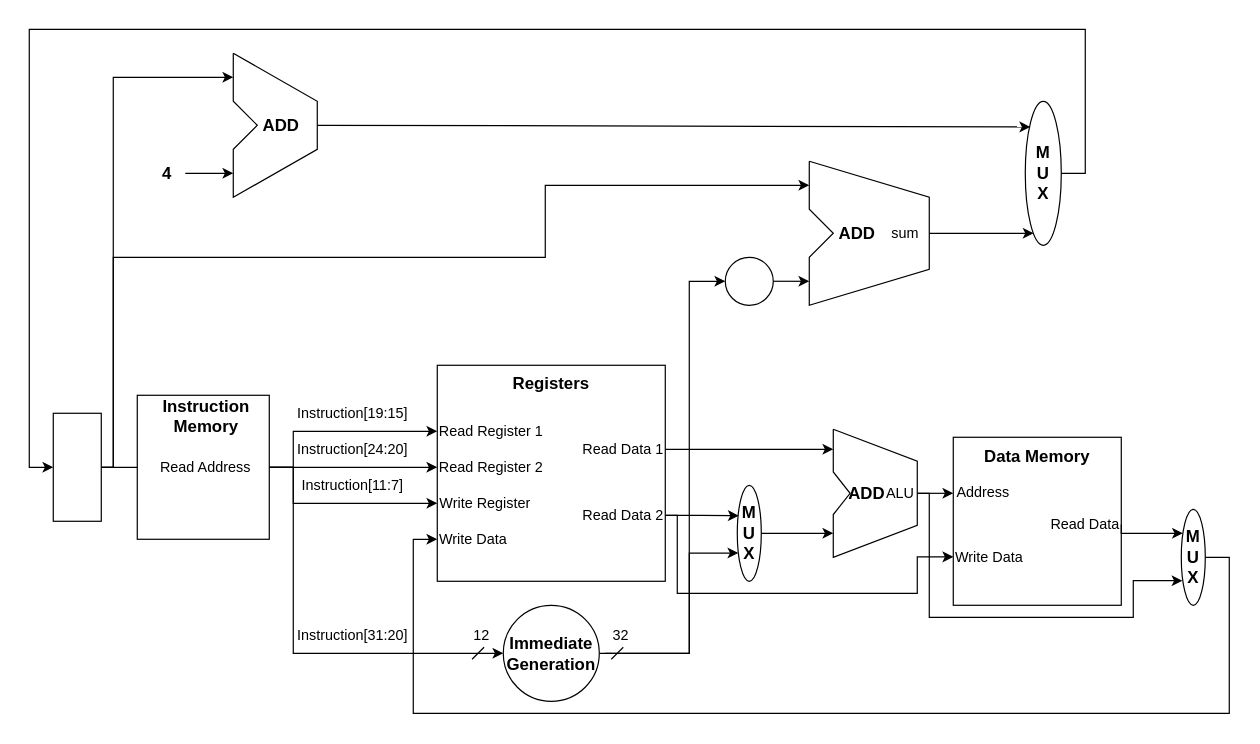
Image size: 1260x744. Some labels were removed from this diagram. Here are the shapes that lost their labels. From the top down, the box of each, then its label:
(724, 256, 773, 305): Shift Left 1
(52, 412, 101, 521): PC
